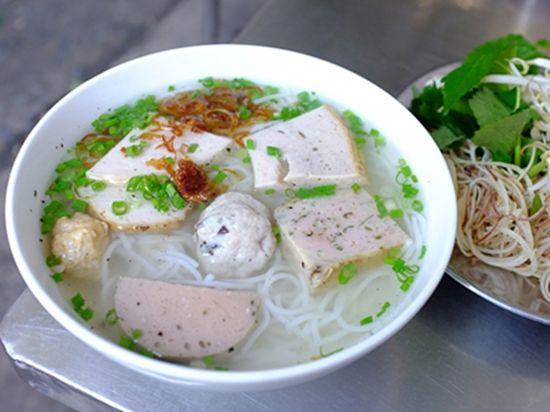chamoc: (281, 183, 407, 289), (117, 276, 263, 359), (245, 103, 363, 192), (83, 150, 194, 228), (193, 190, 277, 278), (50, 214, 111, 281)
onion: (108, 84, 242, 149)
